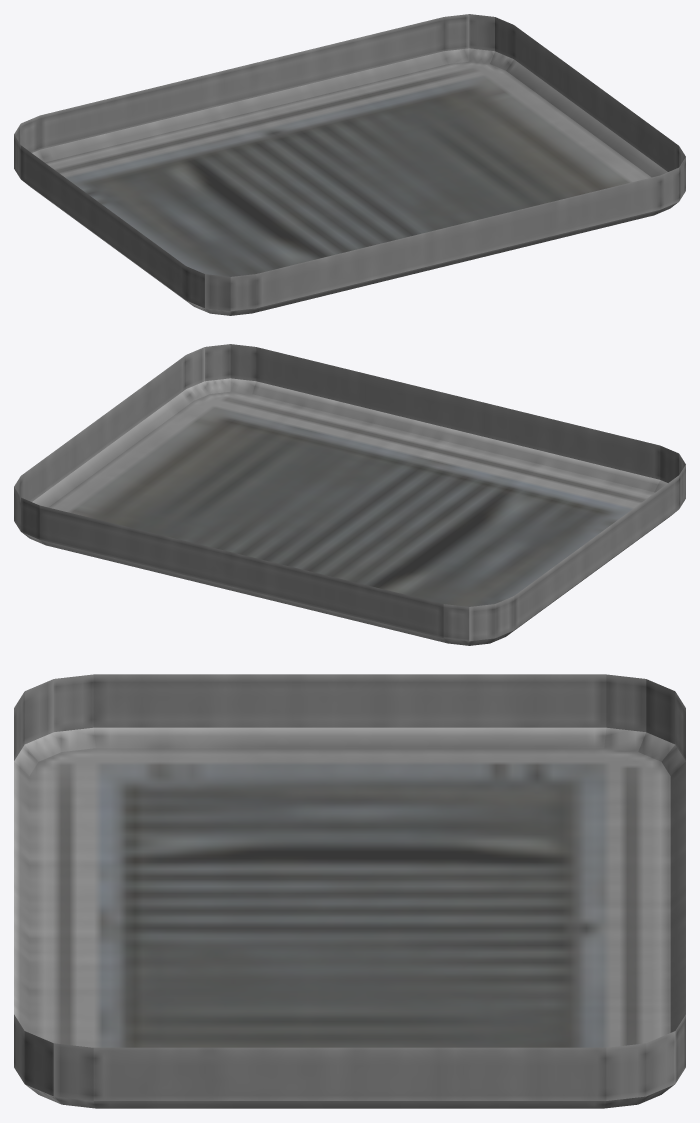
File: decomp_vent.glb
3 renders of one model, top to bottom at view 1: azimuth 30°, elevation 25°; view 2: azimuth 150°, elevation 25°; view 3: azimuth 270°, elevation 25°, orthographic. The views are drawn at different scales.
Parts seen in each view (by area): view 1: Cube; view 2: Cube; view 3: Cube.
Boxes of the visible parts, x1=… form: Cube: x1=14, y1=14, x2=685, y2=315; Cube: x1=14, y1=344, x2=685, y2=645; Cube: x1=14, y1=674, x2=685, y2=1108.
Size of the model in its own units: 1.8 by 0.1508 by 1.37.
1 material, 1 textured.
